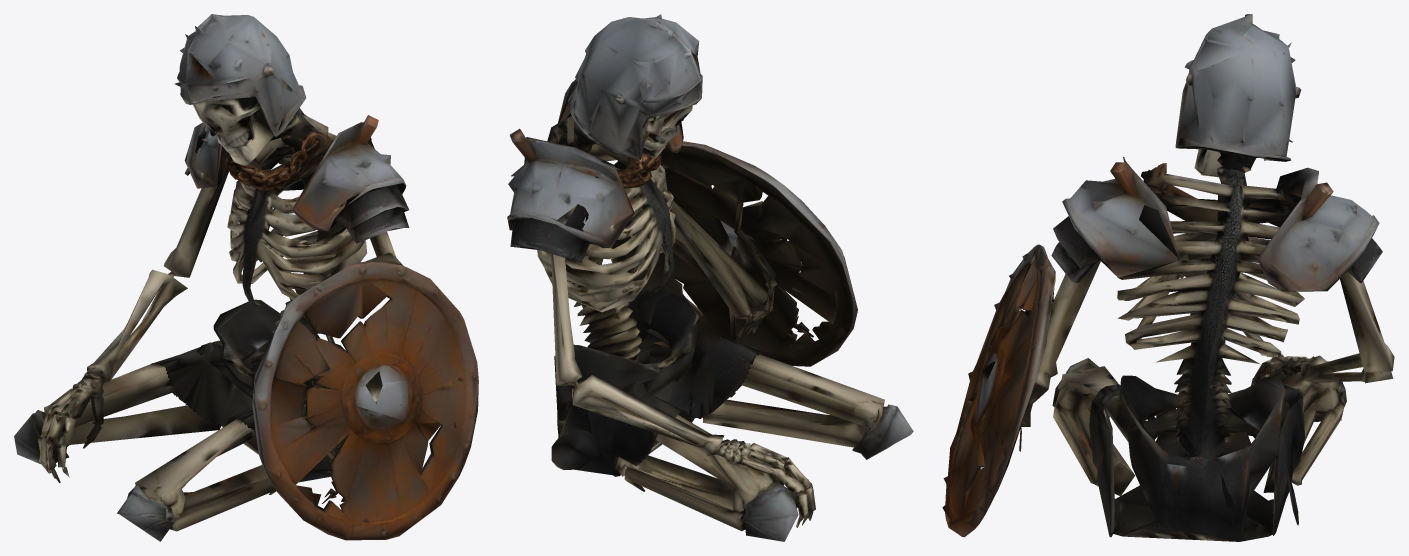
The model's file is SkellySit.opt.glb.
3 renders of one model, left to right at view 1: azimuth 30°, elevation 25°; view 2: azimuth 150°, elevation 25°; view 3: azimuth 270°, elevation 25°, orthographic. The views are drawn at different scales.
Visible parts, largest first — view 1: node_0; view 2: node_0; view 3: node_0.
Part boxes in pixels (<box>): node_0: <box>14,14,478,541</box>; node_0: <box>507,14,913,541</box>; node_0: <box>942,14,1394,541</box>.
Size of the model in its own units: 0.6948 by 0.8837 by 0.7448.
Materials: 1 (1 with a texture image).
